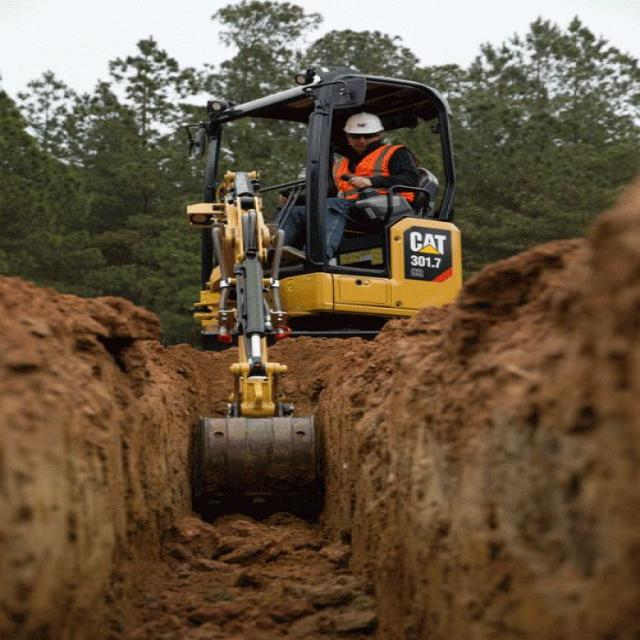red-sand: (0, 178, 639, 639)
